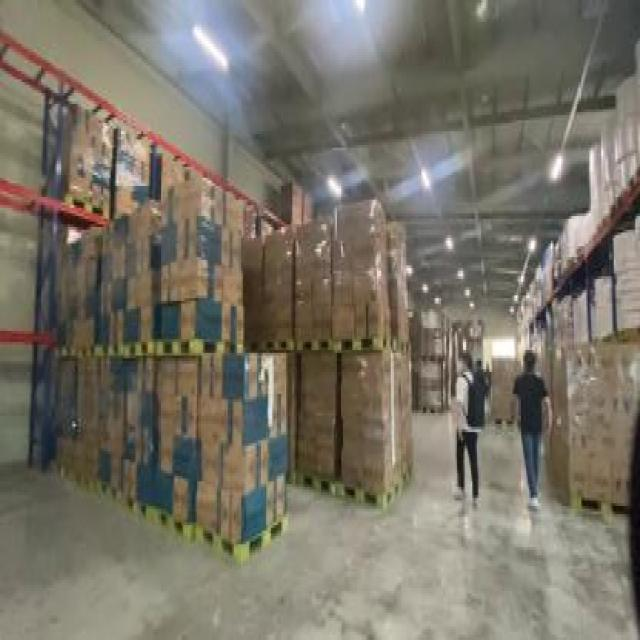box: (46, 175, 291, 566), (234, 219, 412, 514), (536, 342, 638, 514), (58, 96, 111, 227), (406, 306, 468, 408), (112, 134, 152, 235), (489, 350, 523, 424), (154, 145, 188, 216), (283, 180, 314, 230)
person: (509, 336, 554, 512), (448, 347, 484, 509), (474, 356, 488, 430), (485, 361, 492, 399)
white_roll: (537, 211, 585, 290), (606, 230, 639, 339), (615, 44, 637, 180), (590, 129, 618, 227), (591, 268, 614, 342), (570, 285, 592, 350), (548, 298, 574, 342)
